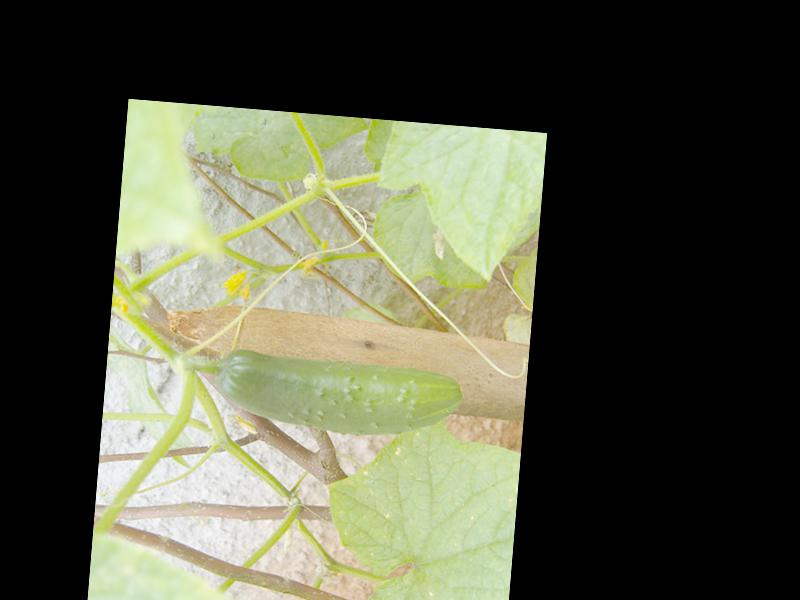Cucumber: (211, 346, 465, 443)
